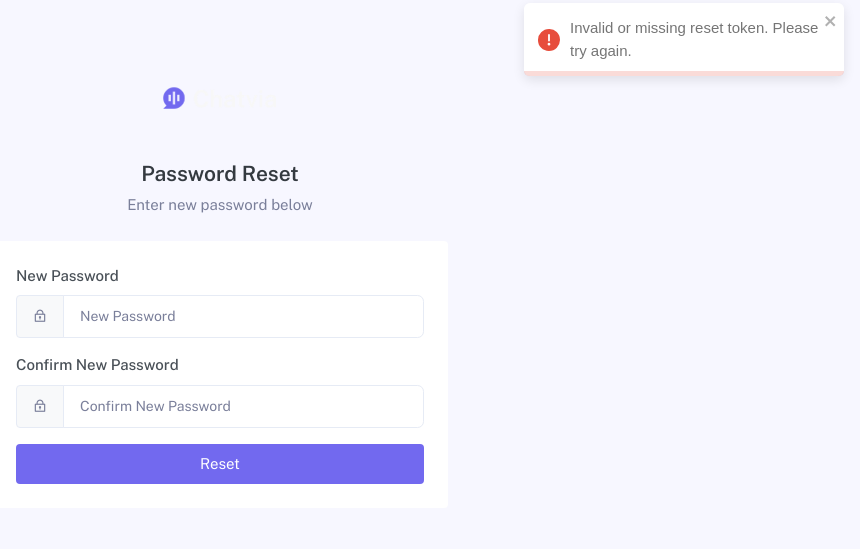
Test case: ChangePassword Component › displays validation errors for empty fields
Click the button "Reset" at (220, 464), box [16, 444, 424, 484]
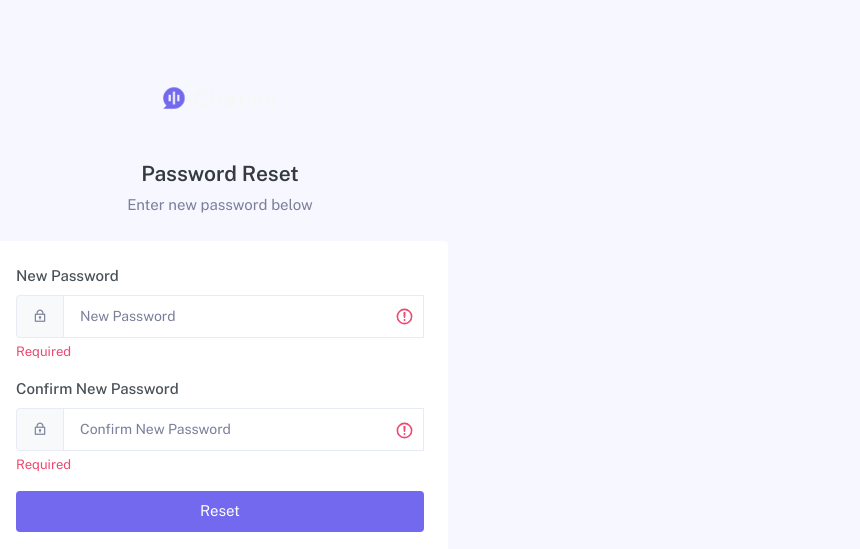
Expected: the text named "new-password-error" is shown, [16, 344, 71, 359]
Expected: the text named "re-new-password-error" is shown, [16, 457, 71, 472]
